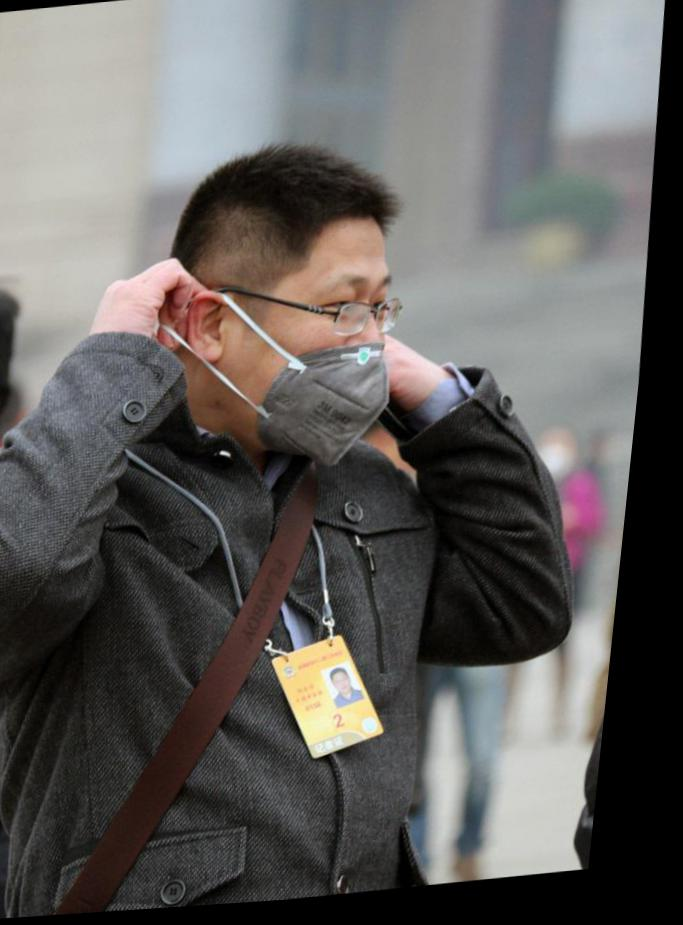WRONG: (249, 239, 421, 483)
